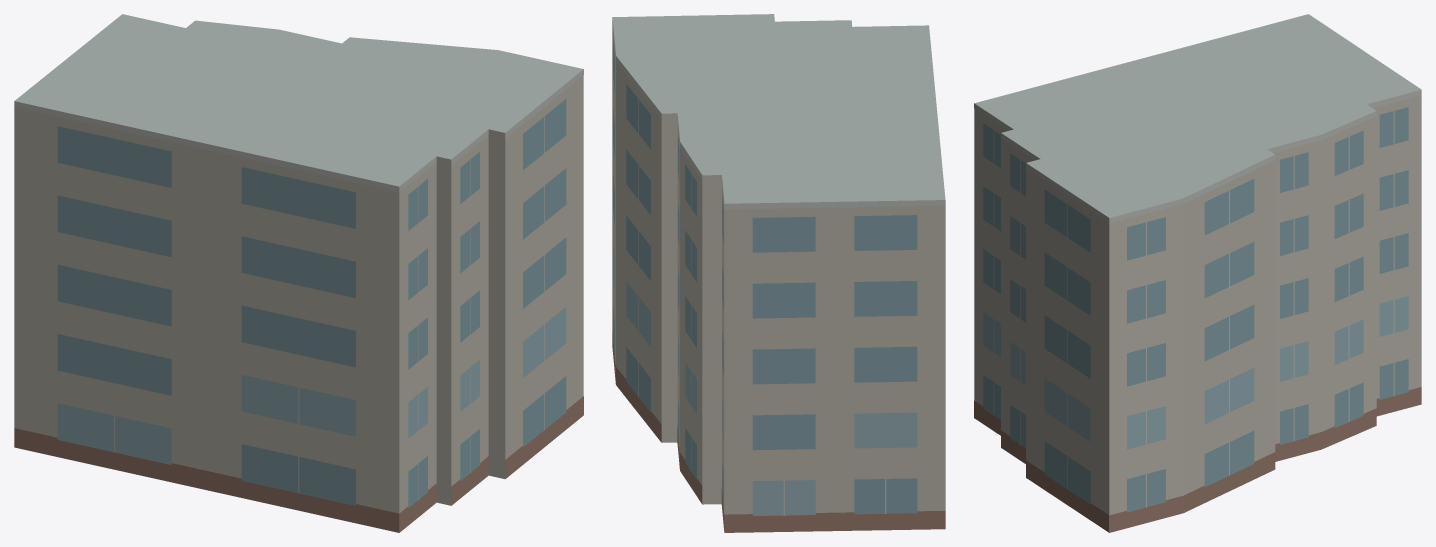
The model's file is survey-upis-32757257.glb.
3 renders of one model, left to right at view 1: azimuth 30°, elevation 25°; view 2: azimuth 150°, elevation 25°; view 3: azimuth 270°, elevation 25°, orthographic. The views are drawn at different scales.
Parts seen in each view (by area): view 1: survey-upis-32757257.tmp; view 2: survey-upis-32757257.tmp; view 3: survey-upis-32757257.tmp.
Part boxes in pixels (x1,y1,x2,y2): survey-upis-32757257.tmp: (14,14,583,532); survey-upis-32757257.tmp: (612,14,945,532); survey-upis-32757257.tmp: (974,14,1421,532).
Bounding box in the file's own units: 19.75 × 14.2 × 18.3.
